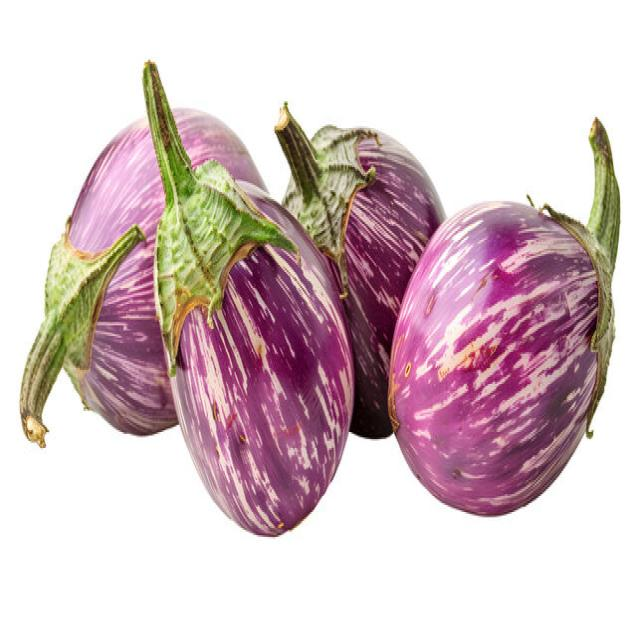Eggplant: (140, 57, 356, 537), (386, 114, 620, 517), (19, 98, 273, 448), (273, 100, 447, 439)
